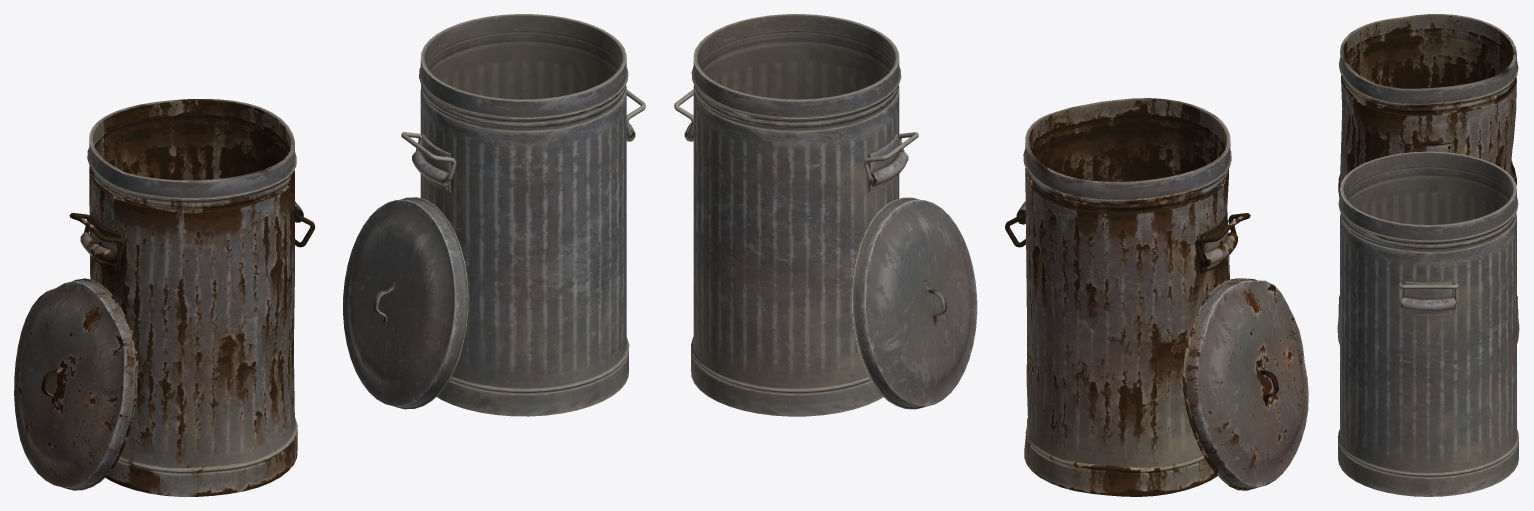
File: metal_trash_can.glb
3 renders of one model, left to right at view 1: azimuth 30°, elevation 25°; view 2: azimuth 150°, elevation 25°; view 3: azimuth 270°, elevation 25°, orthographic. The views are drawn at different scales.
Parts seen in each view (by area): view 1: metal_trash_can, metal_trash_can_rust, metal_trash_can_lid, metal_trash_can_rust_lid; view 2: metal_trash_can, metal_trash_can_rust, metal_trash_can_lid, metal_trash_can_rust_lid; view 3: metal_trash_can, metal_trash_can_rust, metal_trash_can_handle_right.
Boxes of the visible parts, x1,y1,x2,y2 form: metal_trash_can: [412, 14, 635, 416]; metal_trash_can_rust: [80, 99, 303, 496]; metal_trash_can_lid: [343, 197, 468, 409]; metal_trash_can_rust_lid: [14, 278, 137, 490]; metal_trash_can: [684, 14, 908, 416]; metal_trash_can_rust: [1016, 98, 1237, 496]; metal_trash_can_lid: [851, 197, 977, 409]; metal_trash_can_rust_lid: [1183, 278, 1308, 490]; metal_trash_can: [1337, 151, 1518, 496]; metal_trash_can_rust: [1338, 14, 1518, 317]; metal_trash_can_handle_right: [1398, 283, 1458, 303].
Size of the model in its own units: 1.78 by 0.9062 by 0.5543.
2 materials, 2 textured.
